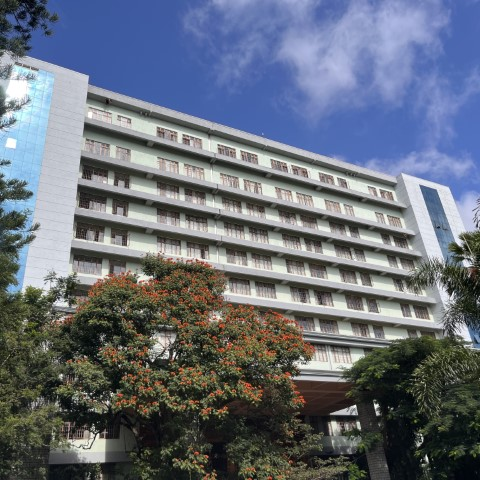Central Block: (1, 46, 480, 367)
